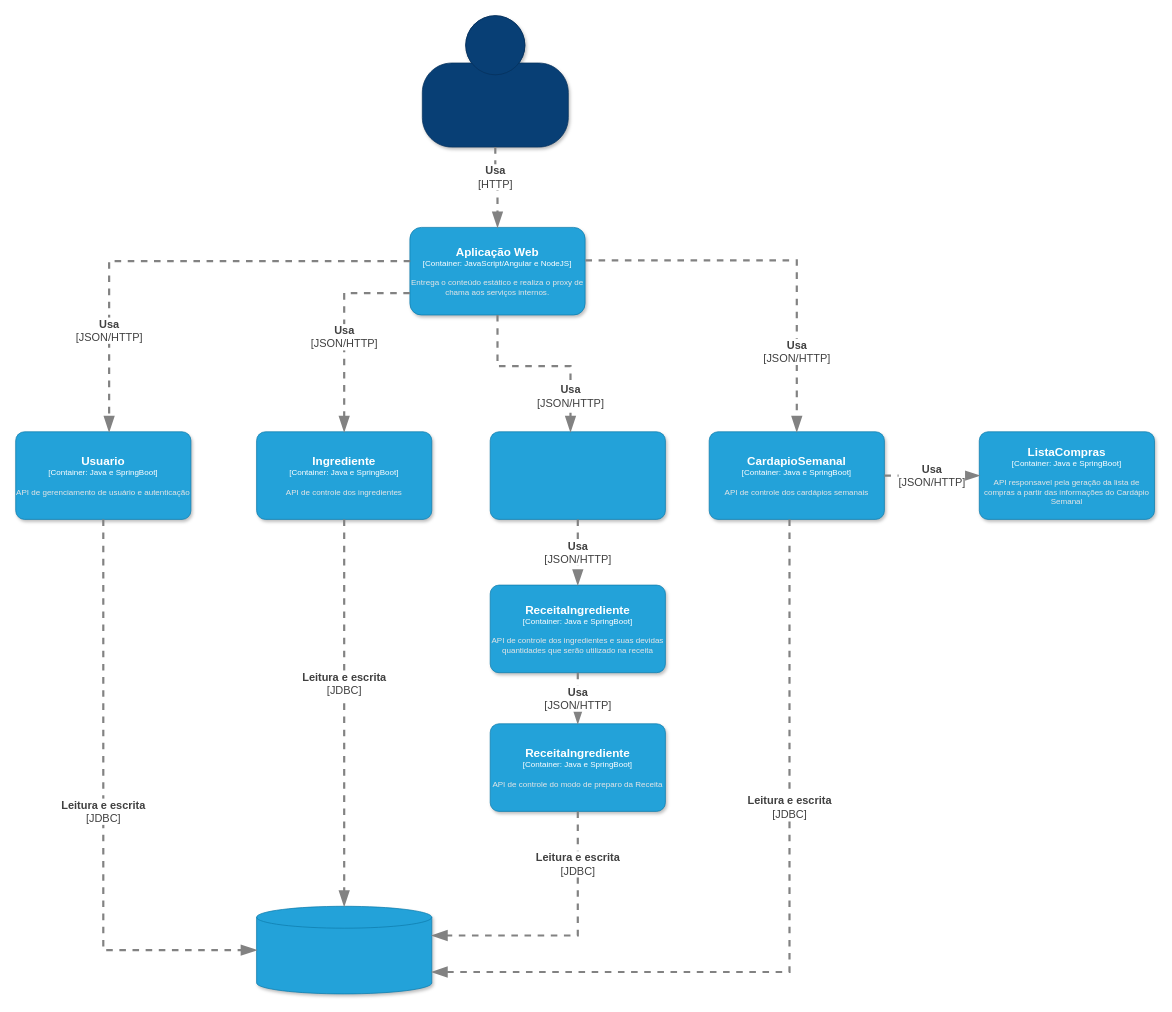
Some shapes in this 1172 by 1012 pixel diagram are drawn without their labels. The shapes that lost their labels are listed below. From the top down, each one's centre as x and y in pixels, then its label:
the point at 496,82: Usuário [Person] Usuário do sistema
the point at 578,476: Receita [Container: Java e SpringBoot] API de controle das receitas
the point at 344,951: Container name [Database: MySQL] Banco de dados relacional
